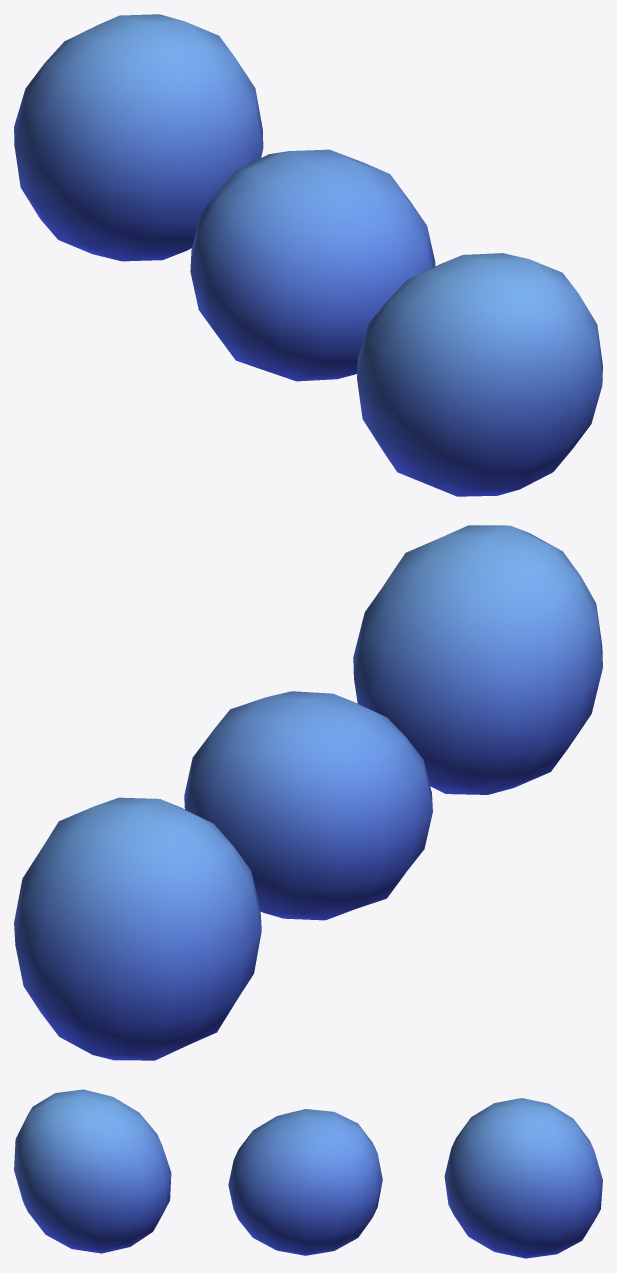
File: SuspensionMarkDots.dae
3 renders of one model, top to bottom at view 1: azimuth 30°, elevation 25°; view 2: azimuth 150°, elevation 25°; view 3: azimuth 270°, elevation 25°, orthographic. The views are drawn at different scales.
Visible parts, largest first — view 1: Cube_014; view 2: Cube_014; view 3: Cube_014.
Part boxes in pixels (bbox=[...]): Cube_014: bbox=[14, 14, 602, 496]; Cube_014: bbox=[14, 525, 602, 1060]; Cube_014: bbox=[14, 1089, 602, 1258].
Bounding box in the file's own units: 0.6061 × 2.27 × 0.657.
1 material, 1 textured.
